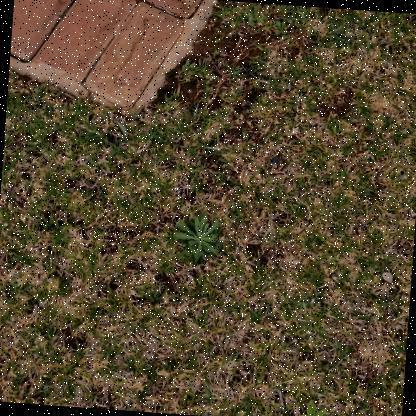Weeds: (172, 210, 224, 264), (241, 5, 261, 27), (299, 401, 330, 415), (272, 20, 288, 37), (180, 59, 196, 76)
